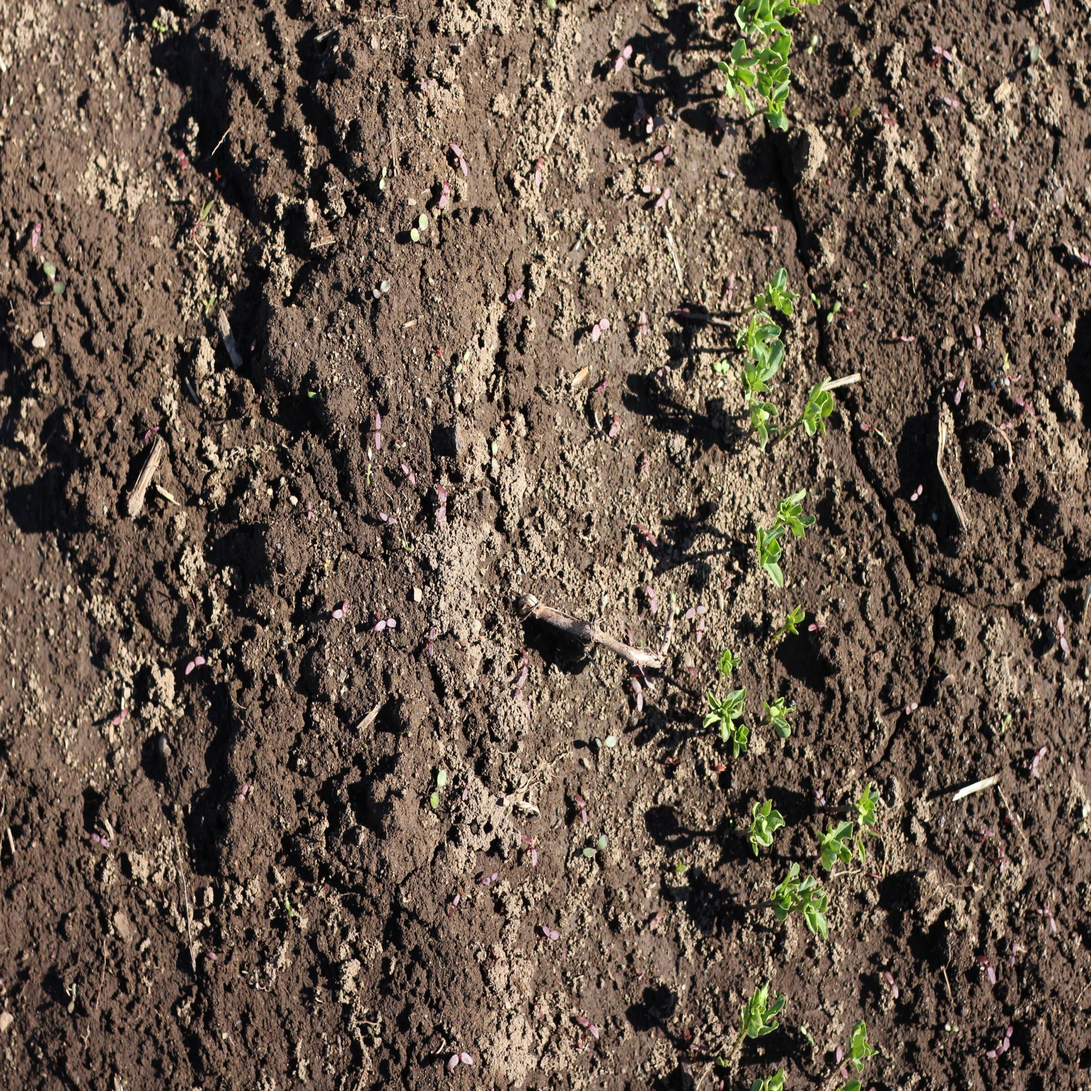AMBEL: (427, 769, 447, 812), (43, 259, 65, 296), (585, 835, 612, 860), (408, 211, 429, 243), (576, 219, 594, 252), (198, 294, 219, 316), (827, 299, 843, 325), (801, 1023, 817, 1047), (673, 860, 688, 885), (455, 349, 469, 375), (714, 356, 733, 375), (372, 279, 390, 299), (598, 736, 620, 751), (594, 731, 616, 746), (365, 463, 377, 490), (488, 439, 498, 469), (1029, 44, 1042, 66), (809, 34, 821, 57), (672, 593, 683, 618), (377, 165, 386, 191), (284, 898, 294, 920), (997, 377, 1017, 388), (1002, 714, 1012, 735), (945, 1023, 961, 1035), (394, 437, 407, 448)
LENCU: (765, 857, 827, 934), (740, 980, 784, 1042), (719, 39, 760, 103), (736, 0, 800, 39), (749, 798, 788, 858), (705, 687, 748, 741), (803, 370, 837, 435), (777, 484, 817, 537), (818, 820, 856, 873), (757, 524, 787, 590), (737, 313, 783, 355), (767, 265, 800, 316), (849, 1017, 876, 1074), (750, 398, 780, 447), (765, 696, 797, 741), (767, 82, 793, 133), (856, 782, 882, 828), (743, 361, 773, 397), (750, 1066, 790, 1091), (719, 648, 742, 680), (732, 725, 753, 760), (787, 606, 807, 640)
POLAV: (194, 195, 214, 229)
POLPE: (436, 475, 452, 526), (448, 140, 468, 177), (616, 42, 637, 74), (980, 954, 999, 986), (580, 1016, 604, 1041), (184, 656, 206, 679), (835, 1044, 849, 1080), (1053, 610, 1065, 651), (634, 677, 646, 716), (594, 315, 612, 341), (882, 965, 897, 996), (1032, 746, 1048, 775), (578, 794, 592, 827), (657, 184, 675, 209), (518, 646, 528, 690), (448, 1051, 472, 1069), (66, 981, 78, 1016), (372, 410, 382, 449), (400, 461, 416, 485), (656, 143, 674, 164), (331, 602, 349, 623), (373, 619, 396, 635), (1004, 1025, 1015, 1058), (934, 44, 953, 63), (31, 220, 43, 250), (951, 375, 963, 405), (1015, 394, 1035, 412), (687, 605, 708, 622), (533, 155, 544, 187), (811, 783, 826, 806), (1048, 904, 1059, 935), (426, 627, 436, 661), (611, 411, 624, 437), (882, 103, 895, 129), (437, 180, 449, 208), (910, 481, 926, 502), (649, 586, 660, 616), (544, 925, 563, 942), (728, 271, 738, 303), (974, 321, 985, 350), (506, 285, 523, 303), (480, 870, 498, 887), (91, 832, 109, 849), (112, 709, 128, 728), (177, 148, 189, 173), (448, 894, 460, 918), (237, 784, 250, 806), (720, 163, 736, 180), (419, 77, 437, 92), (698, 619, 708, 646), (652, 912, 666, 931), (378, 509, 397, 523), (809, 621, 828, 635), (642, 308, 651, 337), (1006, 938, 1016, 964), (648, 526, 661, 546), (944, 95, 962, 109), (992, 198, 1004, 219), (528, 844, 537, 871), (689, 661, 700, 683), (999, 845, 1007, 875), (598, 376, 613, 392), (144, 423, 159, 439), (1007, 217, 1016, 243), (250, 326, 258, 354), (987, 1047, 1004, 1060), (905, 703, 919, 718), (901, 699, 915, 714), (945, 205, 953, 231), (764, 222, 781, 234), (1041, 0, 1053, 17), (658, 364, 673, 377), (644, 449, 652, 473), (676, 304, 693, 315), (305, 497, 313, 520), (648, 113, 656, 136), (459, 787, 469, 805), (725, 572, 733, 593), (1007, 811, 1018, 826), (980, 828, 993, 840), (1000, 419, 1012, 432), (900, 333, 917, 342), (537, 1000, 544, 1021), (206, 951, 218, 962), (860, 420, 871, 431), (638, 969, 648, 980), (434, 345, 443, 357), (870, 872, 882, 881), (500, 416, 510, 426)
